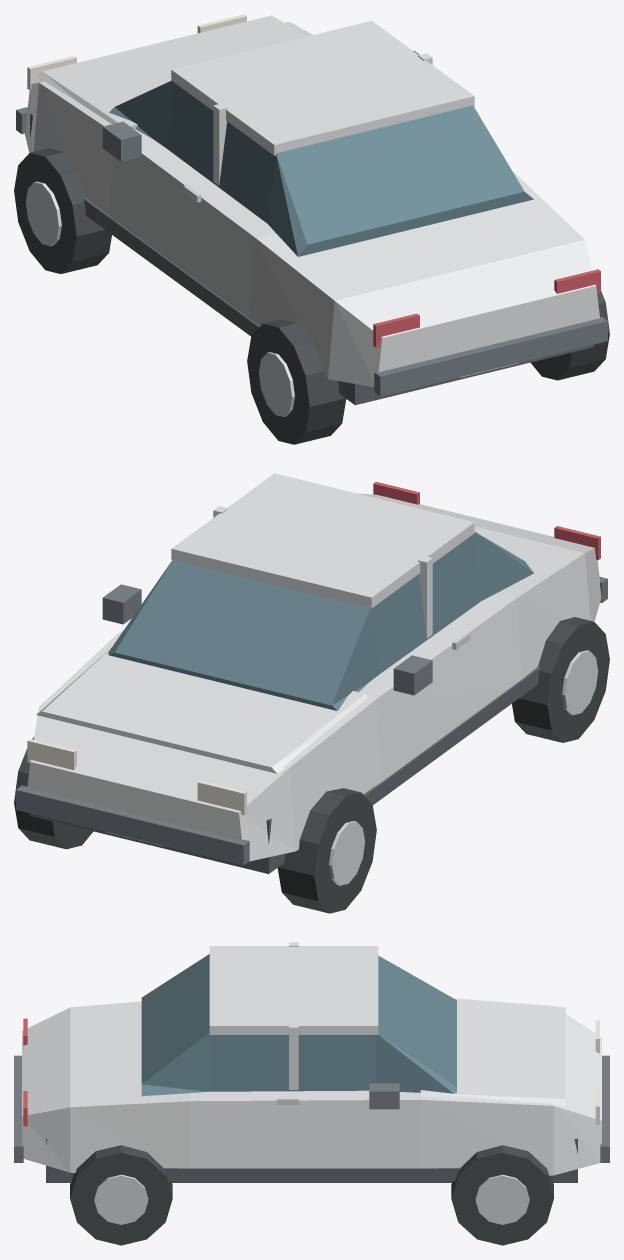
3 renders of one model, top to bottom at view 1: azimuth 30°, elevation 25°; view 2: azimuth 150°, elevation 25°; view 3: azimuth 270°, elevation 25°, orthographic. The views are drawn at different scales.
Visible parts, largest first — view 1: body_0001, cab_glass_0022, roof_0023, hood_0002, wheel_tire_0006, wheel_tire_0004, bumper_0027, lower_sill_0012, wheel_tire_0015, wheel_rim_0007, wheel_rim_0005, chassis_0000 (+5 smaller); view 2: body_0001, cab_glass_0022, roof_0023, hood_0002, wheel_tire_0004, wheel_tire_0006, bumper_0026, lower_sill_0012, wheel_tire_0013, wheel_rim_0007, wheel_rim_0005, mirror_0010 (+7 smaller); view 3: body_0001, cab_glass_0022, roof_0023, hood_0002, wheel_tire_0015, wheel_tire_0013, lower_sill_0021, wheel_rim_0014, wheel_rim_0016, chassis_0000, bumper_0026, bumper_0027 (+2 smaller).
Part boxes in pixels (x1,y1,x2,y2): body_0001: [25, 21, 599, 387]; cab_glass_0022: [109, 80, 533, 256]; roof_0023: [171, 20, 474, 155]; hood_0002: [36, 15, 307, 128]; wheel_tire_0006: [247, 319, 346, 444]; wheel_tire_0004: [14, 148, 111, 273]; bumper_0027: [374, 316, 607, 396]; lower_sill_0012: [83, 197, 259, 336]; wheel_tire_0015: [531, 291, 609, 380]; wheel_rim_0007: [259, 352, 294, 416]; wheel_rim_0005: [25, 181, 61, 246]; chassis_0000: [30, 113, 593, 405]; body_0001: [27, 493, 601, 861]; cab_glass_0022: [108, 532, 533, 710]; roof_0023: [171, 473, 474, 608]; hood_0002: [36, 648, 367, 773]; wheel_tire_0004: [277, 788, 376, 913]; wheel_tire_0006: [512, 617, 609, 742]; bumper_0026: [16, 785, 249, 865]; lower_sill_0012: [363, 666, 540, 804]; wheel_tire_0013: [14, 737, 93, 849]; wheel_rim_0007: [562, 650, 598, 715]; wheel_rim_0005: [329, 821, 364, 885]; mirror_0010: [393, 655, 432, 695]; body_0001: [22, 998, 601, 1175]; cab_glass_0022: [141, 954, 456, 1096]; roof_0023: [209, 946, 378, 1034]; hood_0002: [420, 999, 565, 1105]; wheel_tire_0015: [70, 1145, 172, 1245]; wheel_tire_0013: [451, 1145, 553, 1245]; lower_sill_0021: [163, 1167, 460, 1181]; wheel_rim_0014: [475, 1174, 529, 1224]; wheel_rim_0016: [94, 1174, 148, 1224]; chassis_0000: [46, 1138, 577, 1182]; bumper_0026: [600, 1055, 609, 1162]; bumper_0027: [14, 1055, 23, 1162].
Bounding box in the file's own units: 1.95 × 1.47 × 3.95.
